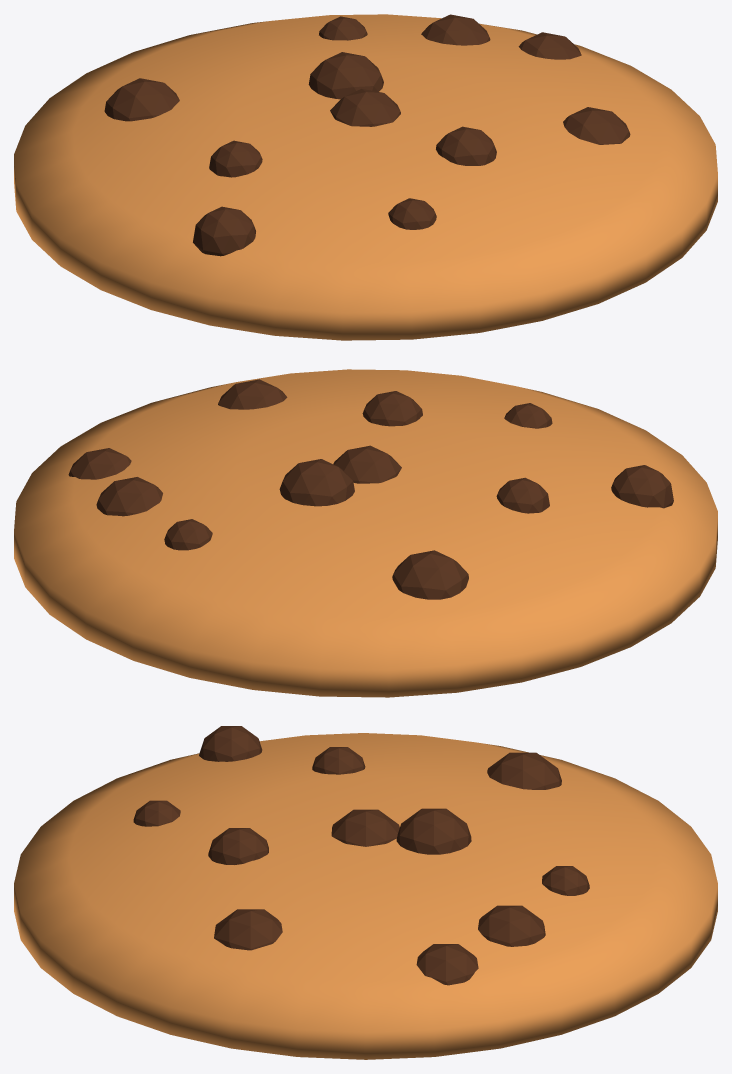
The model's file is Cookie.fbx.
3 views of the same model, one above another, from view 1: azimuth 30°, elevation 25°; view 2: azimuth 150°, elevation 25°; view 3: azimuth 270°, elevation 25° (orthographic).
Parts seen in each view (by area): view 1: Circle, Icosphere.001, Icosphere.010, Icosphere.006, Icosphere, Icosphere.004, Icosphere.007, Icosphere.009, Icosphere.005, Icosphere.008, Icosphere.002, Icosphere.003; view 2: Circle, Icosphere.006, Icosphere.001, Icosphere.010, Icosphere.009, Icosphere, Icosphere.007, Icosphere.004, Icosphere.005, Icosphere.008, Icosphere.003, Icosphere.002; view 3: Circle, Icosphere.001, Icosphere.004, Icosphere.009, Icosphere.006, Icosphere, Icosphere.008, Icosphere.010, Icosphere.007, Icosphere.005, Icosphere.003, Icosphere.002.
Part boxes in pixels (<box>): Circle: <box>14,14,717,340</box>; Icosphere.001: <box>308,52,383,99</box>; Icosphere.010: <box>193,206,255,256</box>; Icosphere.006: <box>104,78,179,121</box>; Icosphere: <box>330,88,400,126</box>; Icosphere.004: <box>563,107,630,144</box>; Icosphere.007: <box>436,126,496,165</box>; Icosphere.009: <box>421,14,490,45</box>; Icosphere.005: <box>209,140,262,177</box>; Icosphere.008: <box>518,32,581,59</box>; Icosphere.002: <box>388,198,436,229</box>; Icosphere.003: <box>319,16,367,40</box>; Circle: <box>14,369,717,697</box>; Icosphere.006: <box>392,550,468,599</box>; Icosphere.001: <box>279,459,354,506</box>; Icosphere.010: <box>611,465,673,508</box>; Icosphere.009: <box>96,477,162,516</box>; Icosphere: <box>333,445,401,483</box>; Icosphere.007: <box>362,391,422,426</box>; Icosphere.004: <box>218,379,287,409</box>; Icosphere.005: <box>496,477,549,513</box>; Icosphere.008: <box>68,448,131,479</box>; Icosphere.003: <box>164,519,212,550</box>; Icosphere.002: <box>504,403,552,428</box>; Circle: <box>14,733,717,1059</box>; Icosphere.001: <box>396,808,471,854</box>; Icosphere.004: <box>214,909,282,950</box>; Icosphere.009: <box>478,905,545,946</box>; Icosphere.006: <box>487,752,561,789</box>; Icosphere: <box>331,809,399,846</box>; Icosphere.008: <box>416,944,478,985</box>; Icosphere.010: <box>199,726,262,761</box>; Icosphere.007: <box>208,828,268,864</box>; Icosphere.005: <box>312,747,365,774</box>; Icosphere.003: <box>542,866,589,895</box>; Icosphere.002: <box>133,800,180,826</box>.
Bounding box in the file's own units: 365 × 62.42 × 365.
